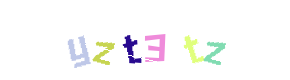3: (106, 0, 186, 80)
T: (105, 0, 185, 80), (116, 0, 196, 80)
Y: (53, 0, 133, 80)
Z: (91, 0, 171, 80), (172, 0, 252, 80)
